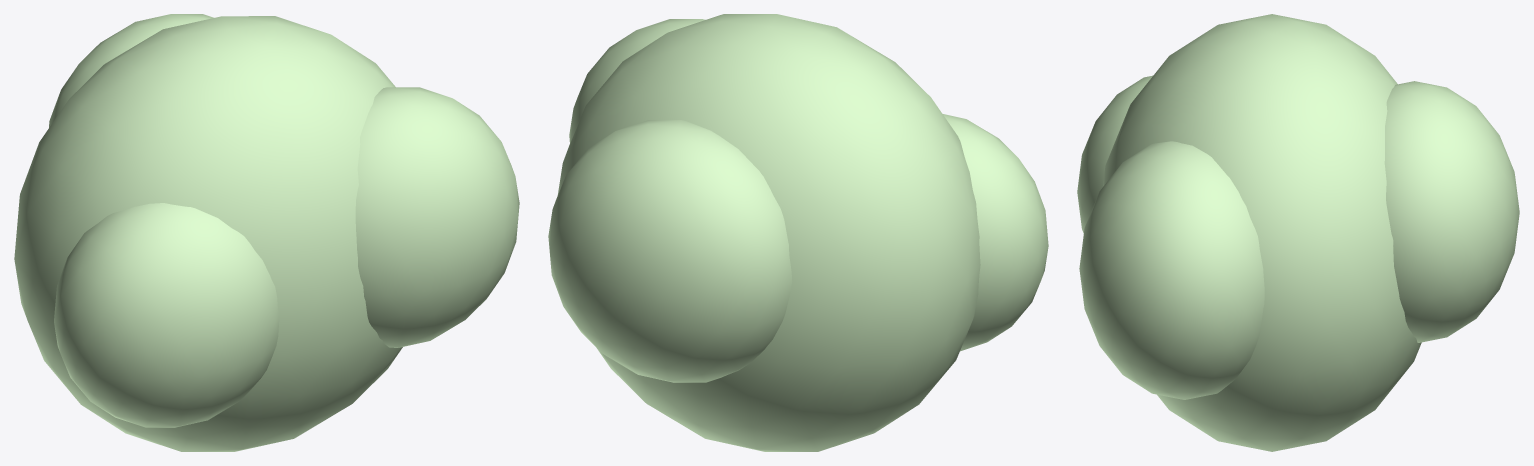
Rendered from cell.slime.glb.
3 views of the same model, side by side, from view 1: azimuth 30°, elevation 25°; view 2: azimuth 150°, elevation 25°; view 3: azimuth 270°, elevation 25° (orthographic). The views are drawn at different scales.
Parts seen in each view (by area): view 1: Slime; view 2: Slime; view 3: Slime.
Boxes of the visible parts, x1,y1,x2,y2 form: Slime: (14, 14, 519, 451); Slime: (548, 14, 1048, 451); Slime: (1077, 14, 1519, 451).
Bounding box in the file's own units: 0.46 × 0.4 × 0.404.
